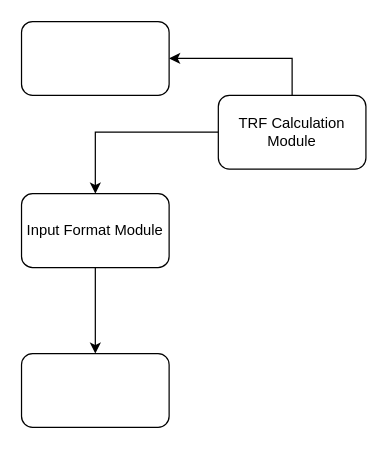
This 387x449 diagram has some shape labels left out. The centre of each missing label's shape, as x and y in pixels:
"Estimator Resolve Module" belongs at [94,57].
"Hardware hiding module" belongs at [94,389].
